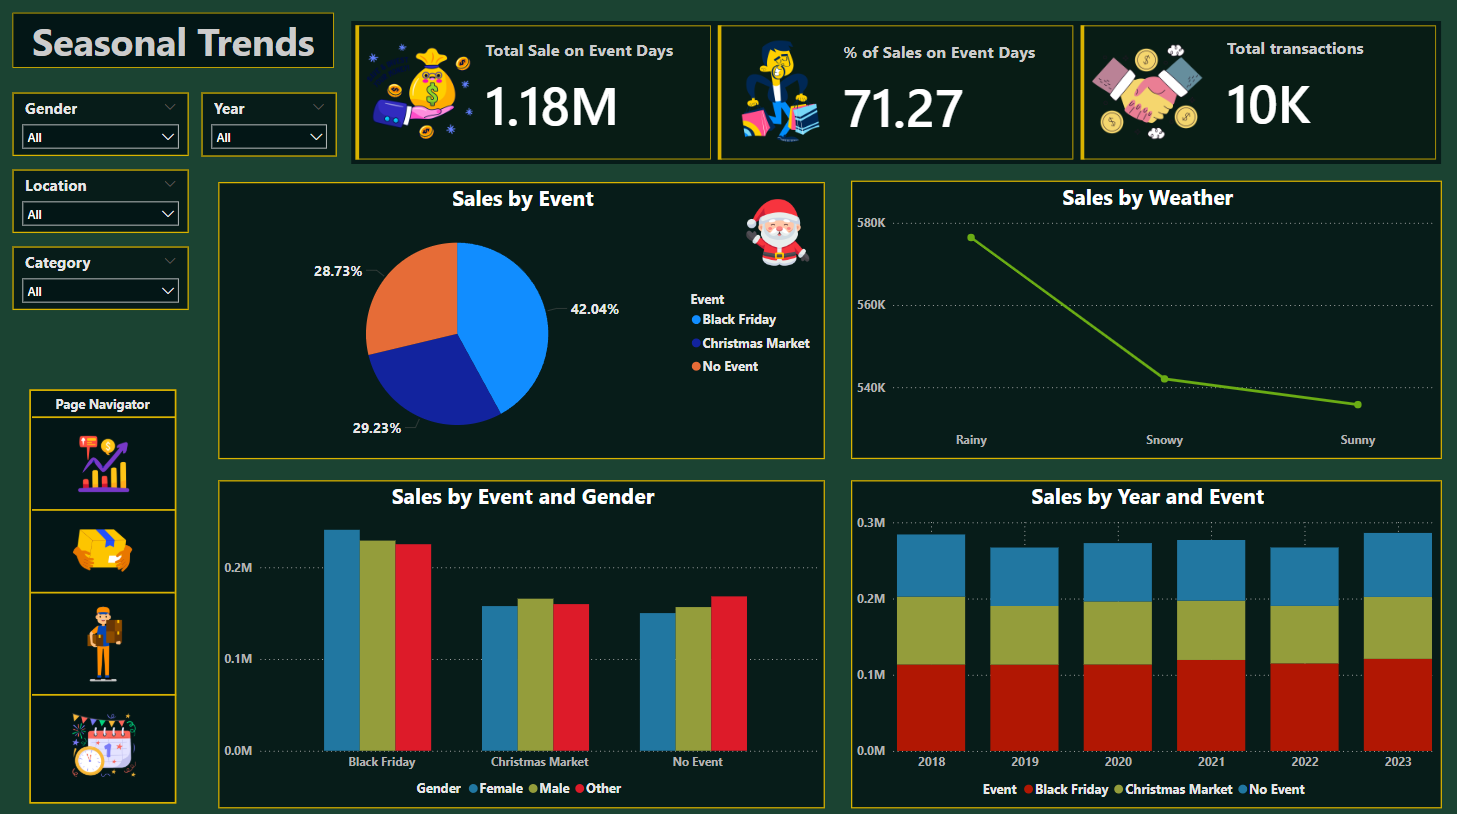

The page's visual inventory and layout, read from the dashboard file:
{"tool":"powerbi","page":{"name":"Seasonal Trends","canvas":[1664,936],"ordinal":3},"visuals":[{"type":"pieChart","title":"Sales by Event","fields":{"Category":["Christmas sales data.Event"],"Y":["Sum(Christmas sales data.TotalPrice)"]},"box":[250,206,688,314],"z":0},{"type":"shape","box":[17.7,15.3,364.7,62.7],"z":1000,"group":"g1"},{"type":"lineChart","title":"Sales by Weather","fields":{"Category":["Christmas sales data.Weather"],"Y":["Sum(Christmas sales data.TotalPrice)"]},"box":[967.8,204.4,670,315.6],"z":1000},{"type":"columnChart","title":"Sales by Year and Event","fields":{"Category":["Christmas sales data.Date.Variation.Date Hierarchy.Year"],"Y":["Sum(Christmas sales data.TotalPrice)"],"Series":["Christmas sales data.Event"]},"box":[967.8,544.4,670,372.2],"z":2000},{"type":"clusteredColumnChart","title":"Sales by Event and Gender","fields":{"Category":["Christmas sales data.Event"],"Series":["Christmas sales data.Gender"],"Y":["Sum(Christmas sales data.TotalPrice)"]},"box":[250,544,688,372],"z":3000},{"type":"slicer","fields":{"Values":["Christmas sales data.Gender"]},"box":[17.7,104.6,200,72.3],"z":4000},{"type":"textbox","box":[17.7,13.3,364.6,66.9],"z":5000,"group":"g1"},{"type":"slicer","fields":{"Values":["Christmas sales data.Location"]},"box":[17.5,192.5,200,72.5],"z":5000},{"type":"slicer","fields":{"Values":["Christmas sales data.Category"]},"box":[17.5,279.2,200,72.5],"z":6000},{"type":"slicer","fields":{"Values":["Christmas sales data.Date.Variation.Date Hierarchy.Year"]},"box":[232.3,104.6,153.8,73.1],"z":7000},{"type":"cardVisual","fields":{"Data":["MeasuresTable.Total Sale on Event Days","MeasuresTable.% of Sales on Event Days","MeasuresTable.Total transactions"]},"box":[402,24,1236,162],"z":8000},{"type":"group","id":"g1","title":"Group 3","box":[17.7,13.3,364.7,66.9],"z":10000},{"type":"image","box":[831.3,206,107.5,114.9],"z":10502},{"type":"group","id":"g2","title":"Group 2","box":[36.7,442,167,470],"z":10503},{"type":"shape","box":[36.7,442,167,470],"z":12000,"group":"g3"},{"type":"group","id":"g3","title":"Group 1","box":[36.7,442,167,470],"z":13000,"group":"g2"},{"type":"image","box":[73.2,582.2,94.1,86.4],"z":13000,"group":"g3"},{"type":"textbox","box":[38.7,443.3,163.3,31],"z":14000,"group":"g2"},{"type":"image","box":[77.3,486.2,86.1,81],"z":14000,"group":"g3"},{"type":"image","box":[74.7,801.8,94.1,86.1],"z":15000,"group":"g3"},{"type":"image","box":[74.7,683.8,94.7,94.7],"z":16000,"group":"g3"},{"type":"shape","box":[39.6,468.1,163.2,12.7],"z":17000,"group":"g3"},{"type":"shape","box":[39.6,572.1,162.9,13.4],"z":19000,"group":"g3"},{"type":"shape","box":[38.5,665.2,163.5,13.7],"z":20000,"group":"g3"},{"type":"shape","box":[39.6,782.4,163.5,13.7],"z":21000,"group":"g3"}]}

Visuals, with their boxes in screenshot pixels (x1, y1, x2, y2), scaled from the page's 1664x936 canvas onto the 1457x814 screenshot:
"Sales by Event" pieChart: select_region(219, 179, 821, 452)
shape: select_region(15, 13, 335, 68)
"Sales by Weather" lineChart: select_region(847, 178, 1434, 452)
"Sales by Year and Event" columnChart: select_region(847, 473, 1434, 797)
"Sales by Event and Gender" clusteredColumnChart: select_region(219, 473, 821, 797)
slicer - Christmas sales data.Gender: select_region(15, 91, 191, 154)
textbox: select_region(15, 12, 335, 70)
slicer - Christmas sales data.Location: select_region(15, 167, 190, 230)
slicer - Christmas sales data.Category: select_region(15, 243, 190, 306)
slicer - Christmas sales data.Date.Variation.Date Hierarchy.Year: select_region(203, 91, 338, 155)
cardVisual - MeasuresTable.Total Sale on Event Days x MeasuresTable.% of Sales on Event Days: select_region(352, 21, 1434, 162)
"Group 3" group: select_region(15, 12, 335, 70)
image: select_region(728, 179, 822, 279)
"Group 2" group: select_region(32, 384, 178, 793)
shape: select_region(32, 384, 178, 793)
"Group 1" group: select_region(32, 384, 178, 793)
image: select_region(64, 506, 146, 581)
textbox: select_region(34, 386, 177, 412)
image: select_region(68, 423, 143, 493)
image: select_region(65, 697, 148, 772)
image: select_region(65, 595, 148, 677)
shape: select_region(35, 407, 178, 418)
shape: select_region(35, 498, 177, 509)
shape: select_region(34, 578, 177, 590)
shape: select_region(35, 680, 178, 692)
